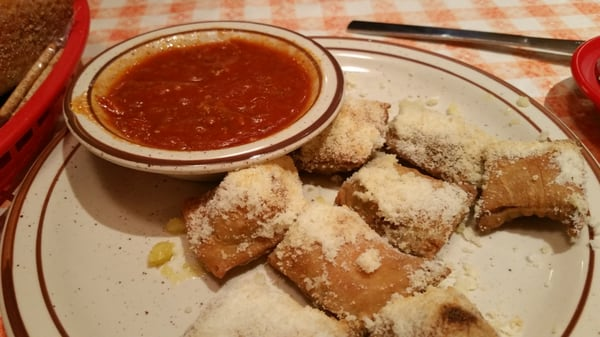sushi: (62, 20, 346, 176)
